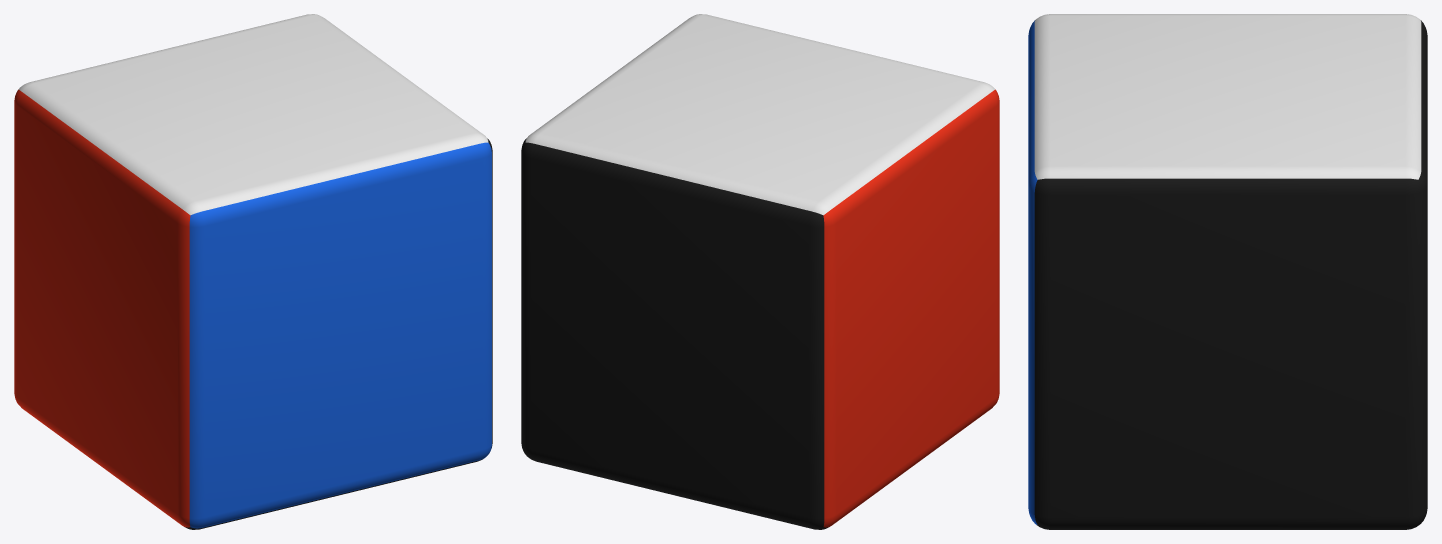
Rendered from wrb_corner.glb.
The picture shows the model from 3 angles, left to right: view 1: azimuth 30°, elevation 25°; view 2: azimuth 150°, elevation 25°; view 3: azimuth 270°, elevation 25°; orthographic projection. The views are drawn at different scales.
Visible parts, largest first — view 1: Cube.007; view 2: Cube.007; view 3: Cube.007.
Boxes of the visible parts, box(x1,y1,x2,y2) form: Cube.007: box(14, 14, 492, 529); Cube.007: box(521, 14, 999, 529); Cube.007: box(1028, 14, 1427, 529).
Size of the model in its own units: 2 by 2 by 2.
